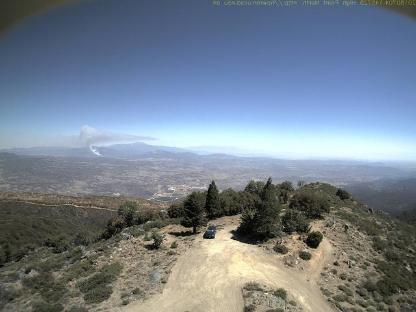smoke: (68, 124, 160, 156)
